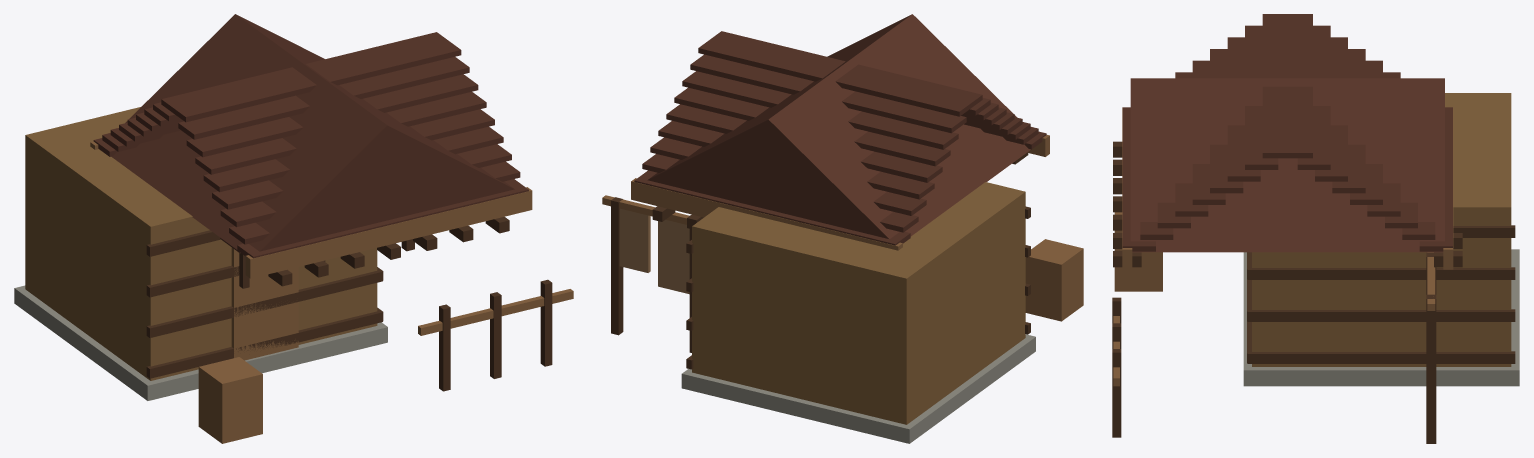
Rendered from hunter.glb.
The picture shows the model from 3 angles, left to right: view 1: azimuth 30°, elevation 25°; view 2: azimuth 150°, elevation 25°; view 3: azimuth 270°, elevation 25°; orthographic projection. The views are drawn at different scales.
Parts seen in each view (by area): view 1: hunter; view 2: hunter; view 3: hunter.
Boxes of the visible parts, left/top/right/bottom form: hunter: left=14, top=14, right=573, bottom=443; hunter: left=602, top=14, right=1083, bottom=443; hunter: left=1112, top=14, right=1519, bottom=443.
Bounding box in the file's own units: 3.95 × 2.8 × 3.69.
